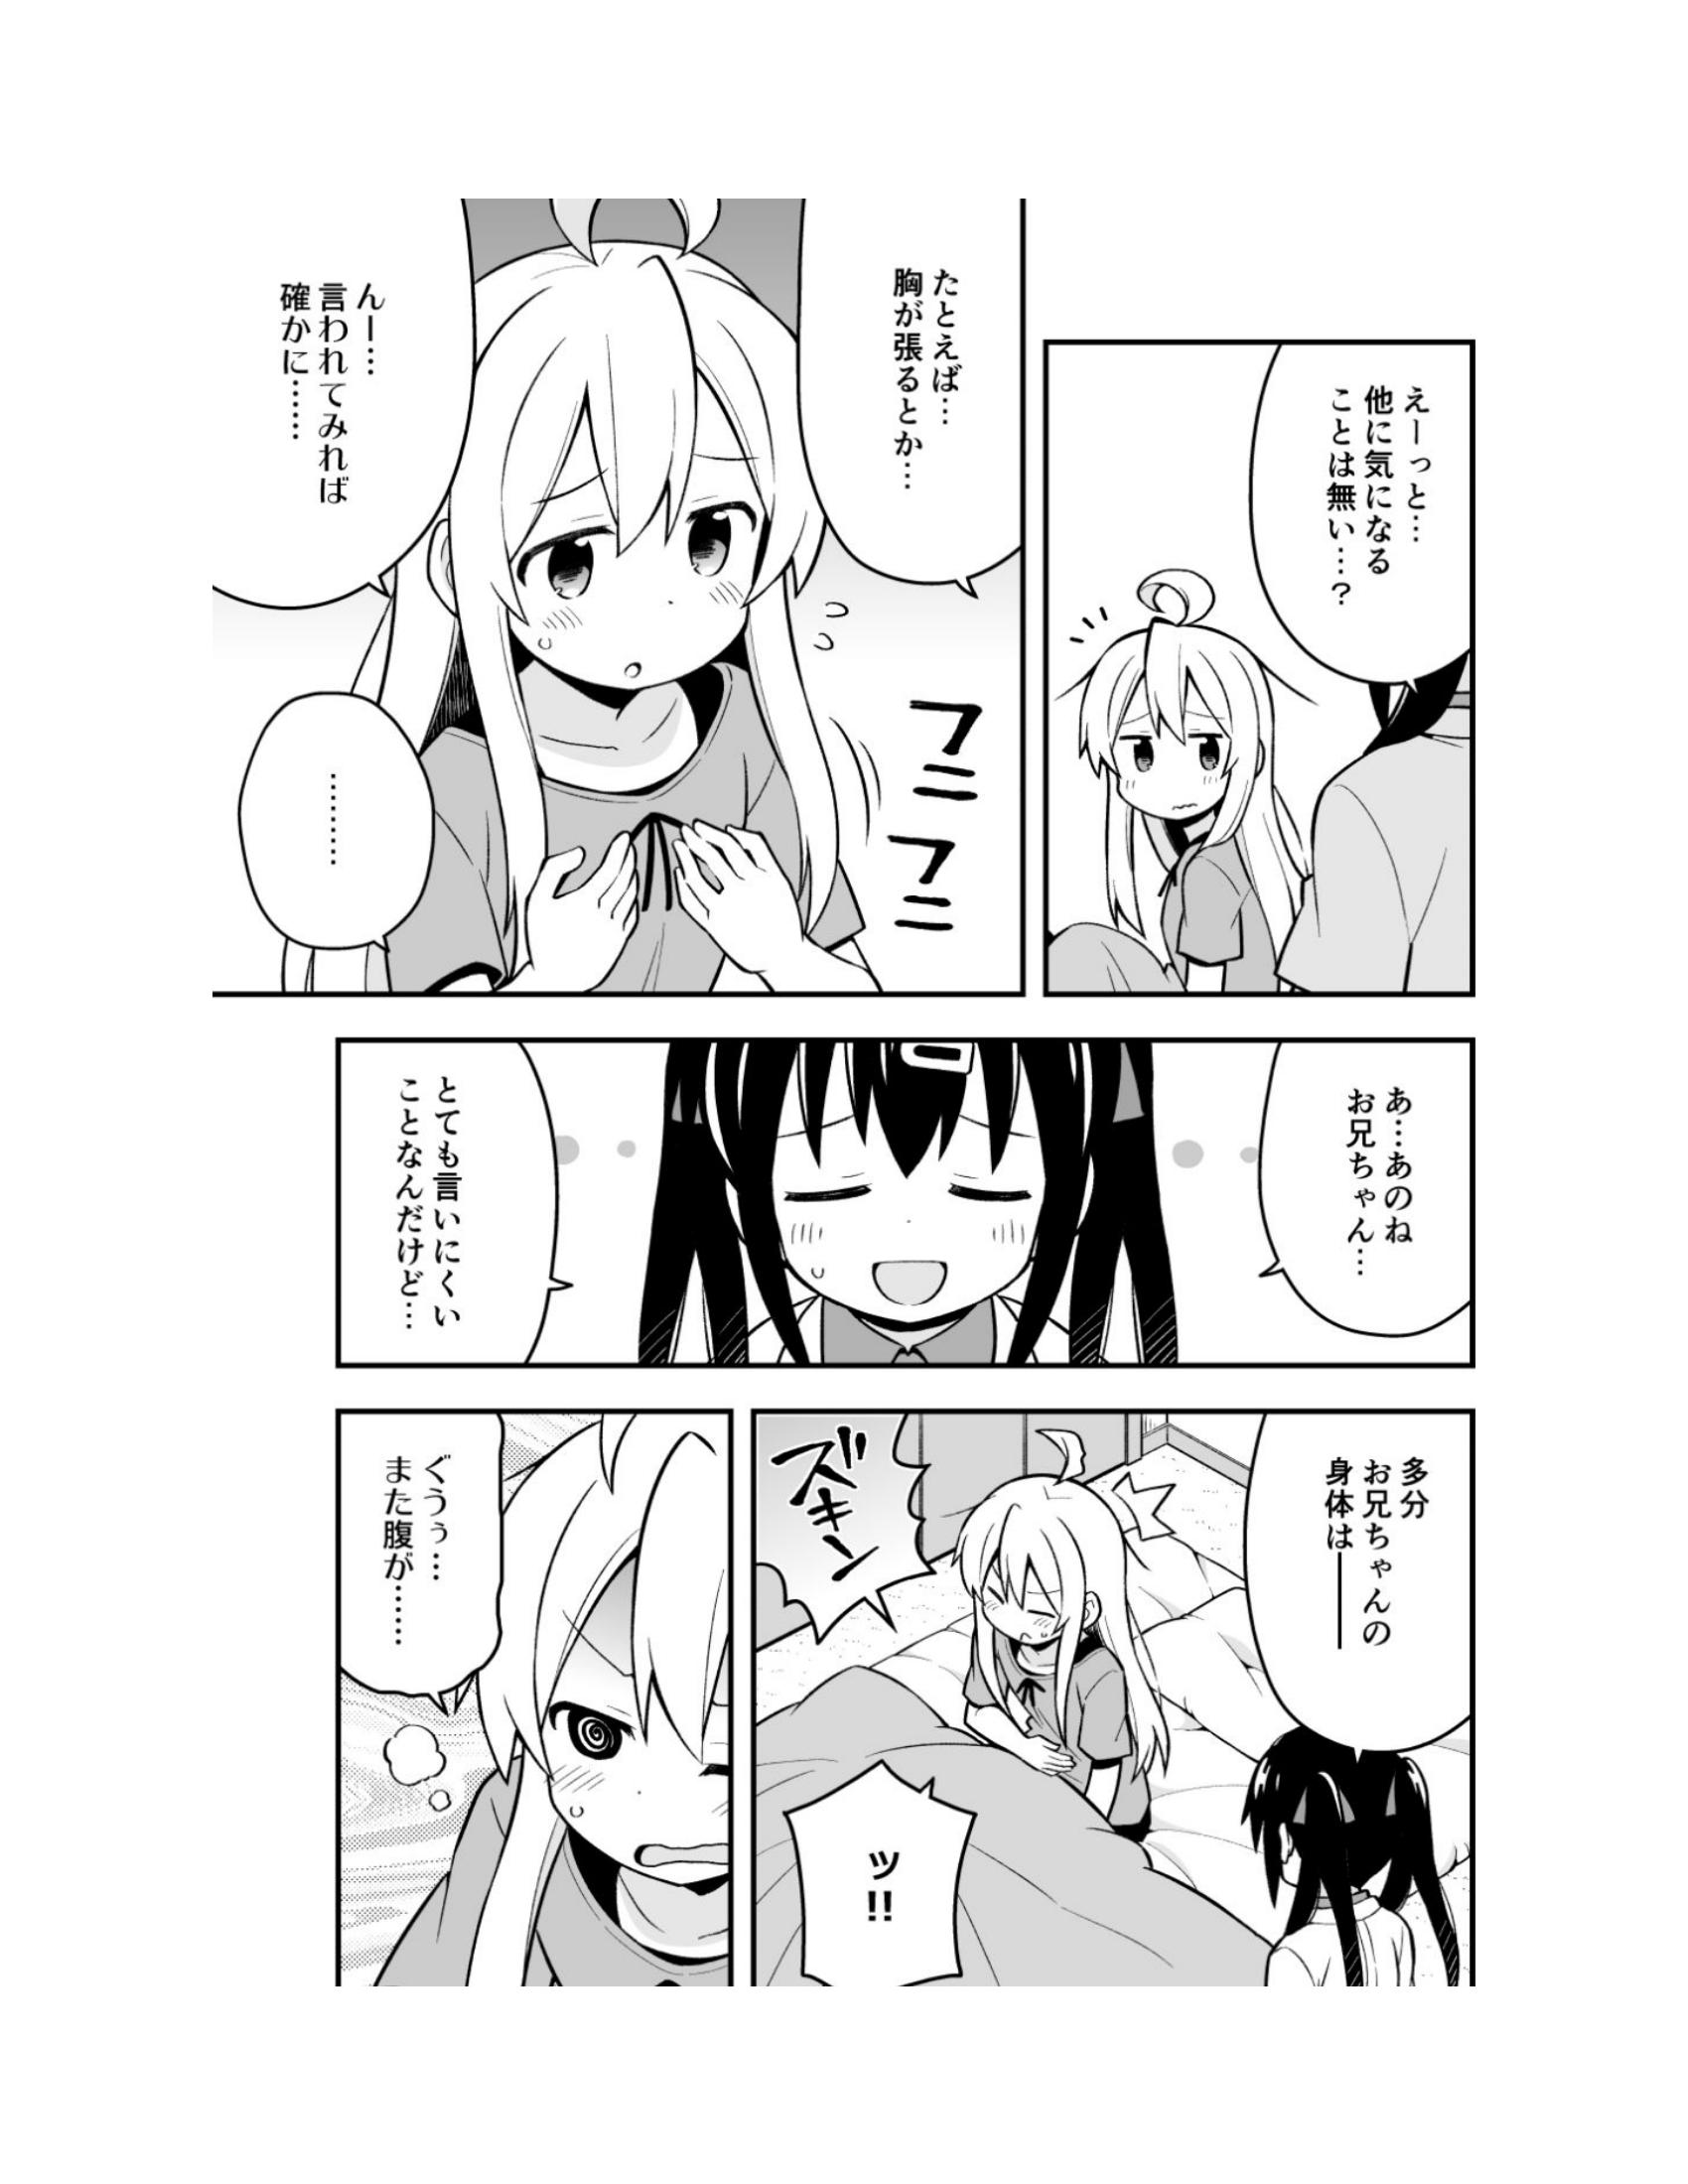a: (181, 168, 489, 581), (785, 161, 1025, 589), (1238, 1400, 1489, 1767), (1234, 356, 1489, 704), (316, 1033, 574, 1363), (1250, 1041, 1489, 1356), (321, 1409, 534, 1659), (770, 1743, 950, 1996)
